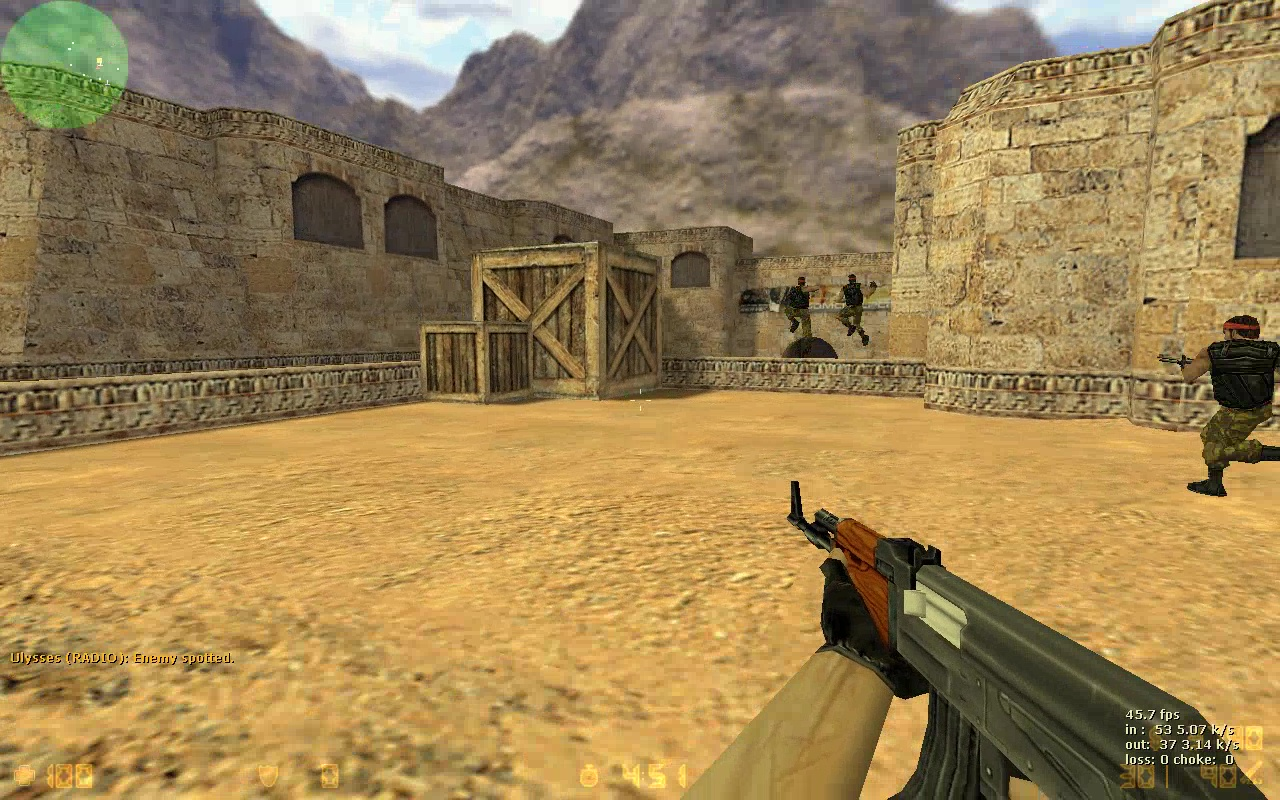terr1: (1153, 313, 1280, 495), (834, 272, 879, 343), (778, 277, 822, 349)
